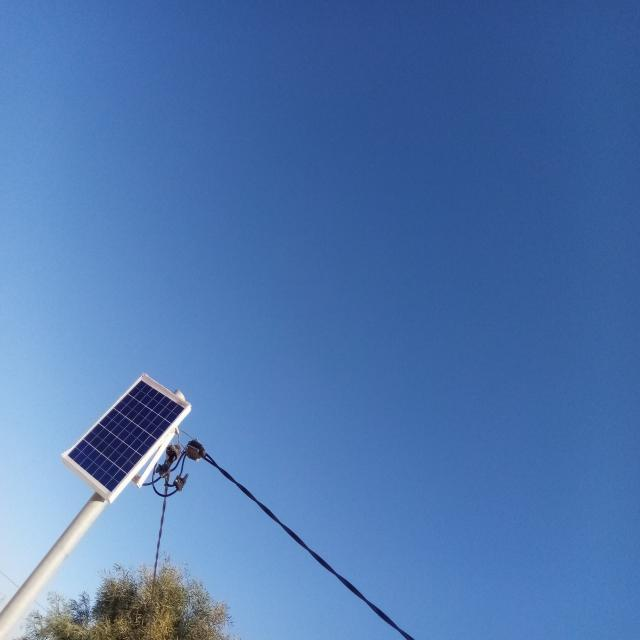no faulty: (63, 373, 189, 498)
